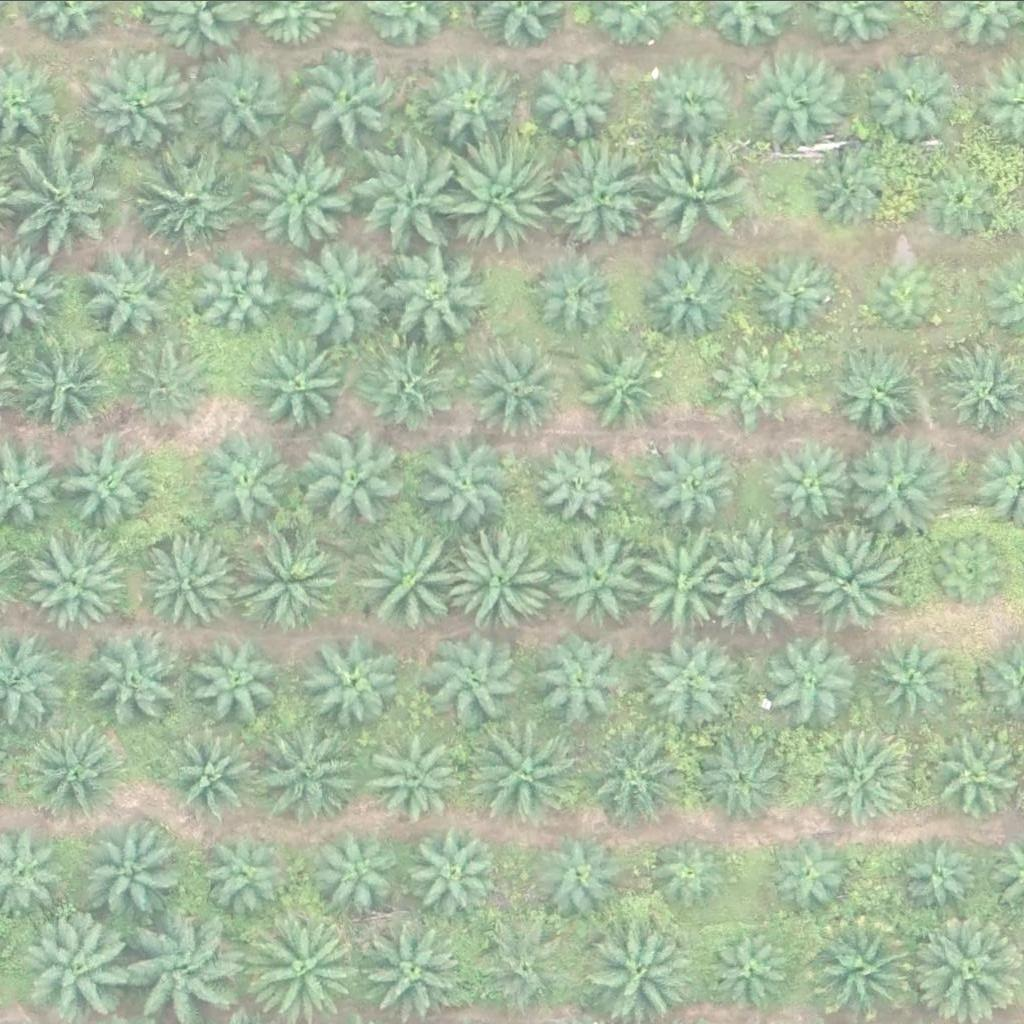Kelapa_Sawit: (297, 418, 411, 531), (576, 907, 689, 1020), (354, 137, 467, 250), (251, 712, 364, 825), (473, 713, 586, 826), (12, 138, 126, 250), (26, 908, 139, 1020), (809, 909, 922, 1021), (447, 141, 560, 253), (448, 520, 561, 632), (245, 911, 358, 1023), (75, 820, 176, 920), (142, 532, 243, 632), (22, 534, 123, 634), (58, 434, 159, 534), (113, 332, 214, 432), (16, 330, 117, 430), (81, 243, 182, 343), (145, 152, 246, 252), (93, 57, 194, 157), (590, 725, 691, 825), (807, 724, 908, 824), (641, 633, 742, 733), (641, 532, 742, 632), (794, 534, 895, 634), (850, 431, 951, 531), (652, 138, 753, 238), (800, 131, 901, 231), (301, 48, 402, 148), (423, 51, 524, 151), (249, 149, 350, 249), (293, 242, 394, 342), (250, 331, 351, 431), (543, 524, 644, 624), (530, 630, 631, 730), (426, 626, 527, 726), (304, 631, 405, 731), (363, 724, 464, 824), (29, 723, 129, 823), (85, 628, 185, 728), (196, 434, 296, 534), (191, 57, 291, 157), (712, 527, 812, 627), (643, 248, 743, 348), (747, 241, 847, 341), (754, 48, 854, 148), (555, 147, 655, 247), (392, 237, 492, 337), (467, 338, 567, 438), (359, 331, 459, 431), (240, 534, 340, 634), (355, 530, 455, 630), (839, 344, 928, 432), (200, 826, 288, 914), (164, 732, 252, 820), (195, 633, 283, 721), (707, 729, 795, 817), (774, 434, 862, 522), (582, 341, 670, 429), (709, 341, 797, 429), (924, 148, 1012, 236), (651, 58, 739, 146), (872, 57, 960, 145), (535, 254, 623, 342), (534, 828, 622, 916), (482, 923, 570, 1011), (864, 633, 953, 720), (408, 826, 497, 913), (205, 247, 293, 334), (704, 920, 792, 1007), (647, 827, 735, 914), (768, 830, 856, 917), (898, 825, 986, 912), (774, 633, 862, 720), (933, 527, 1021, 614), (653, 438, 741, 525), (530, 57, 618, 144), (425, 437, 513, 524), (533, 436, 621, 523), (319, 830, 407, 917), (872, 254, 948, 329)
